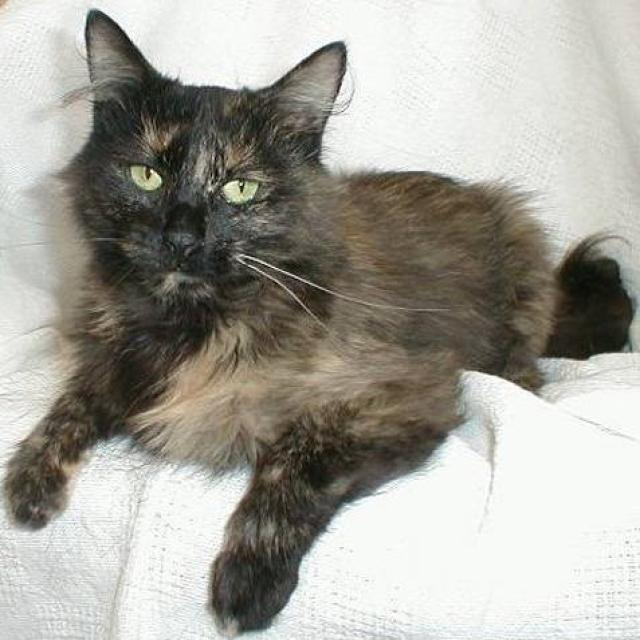cat: (0, 7, 633, 636)
